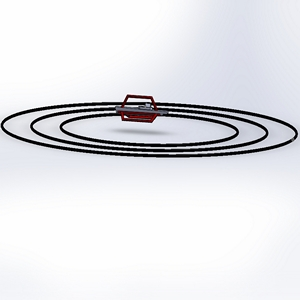circle: (1, 80, 299, 175)
submarine: (111, 85, 172, 132)
